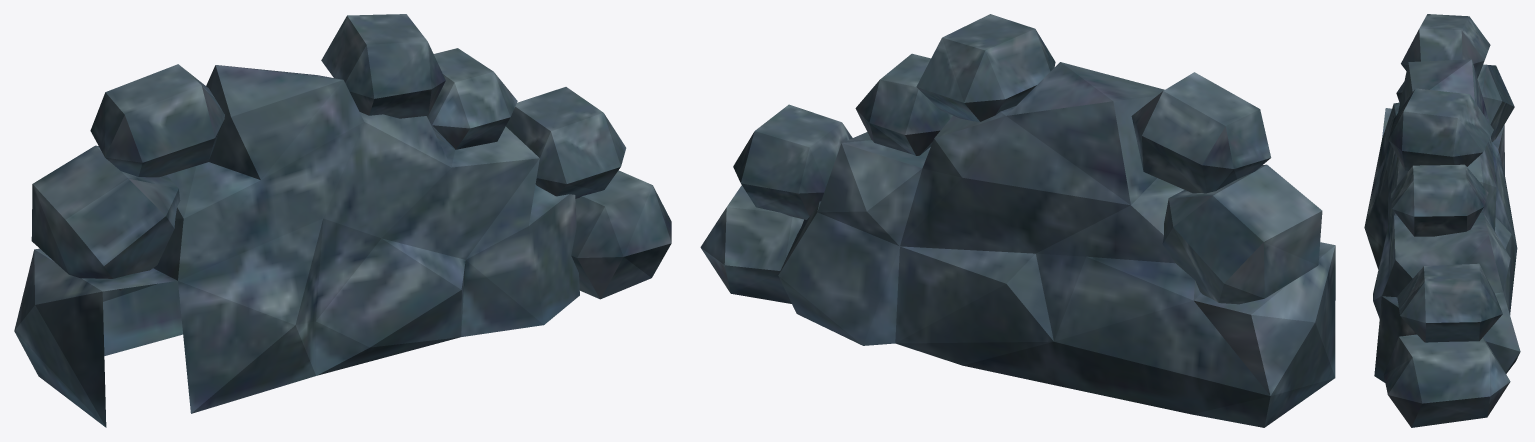
3 views of the same model, side by side, from view 1: azimuth 30°, elevation 25°; view 2: azimuth 150°, elevation 25°; view 3: azimuth 270°, elevation 25° (orthographic). The views are drawn at different scales.
Parts seen in each view (by area): view 1: Object007; view 2: Object007; view 3: Object007.
Part boxes in pixels (x1=…): Object007: x1=14, y1=14, x2=671, y2=427; Object007: x1=700, y1=14, x2=1335, y2=427; Object007: x1=1364, y1=14, x2=1520, y2=427.
Bounding box in the file's own units: 12.49 × 5.82 × 3.54.
